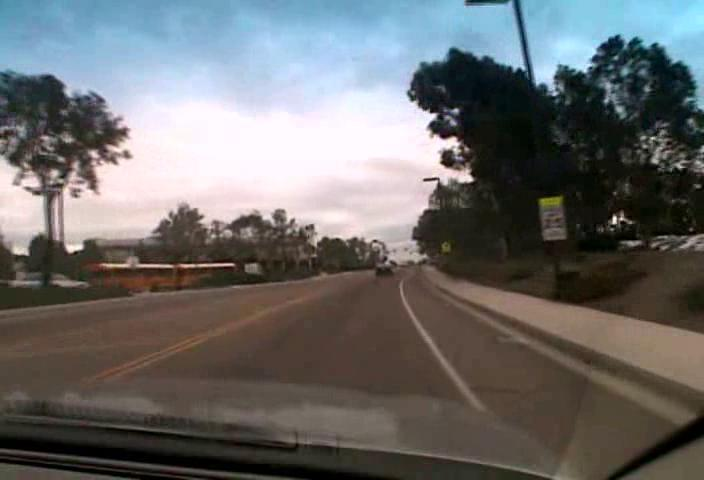schoolSpeedLimit25: (537, 195, 568, 241)
